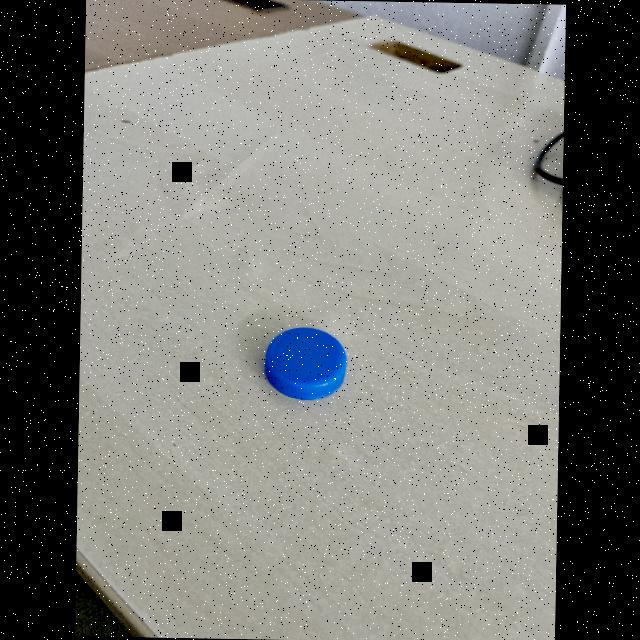plastic_bottle_cap: (260, 322, 354, 404)
